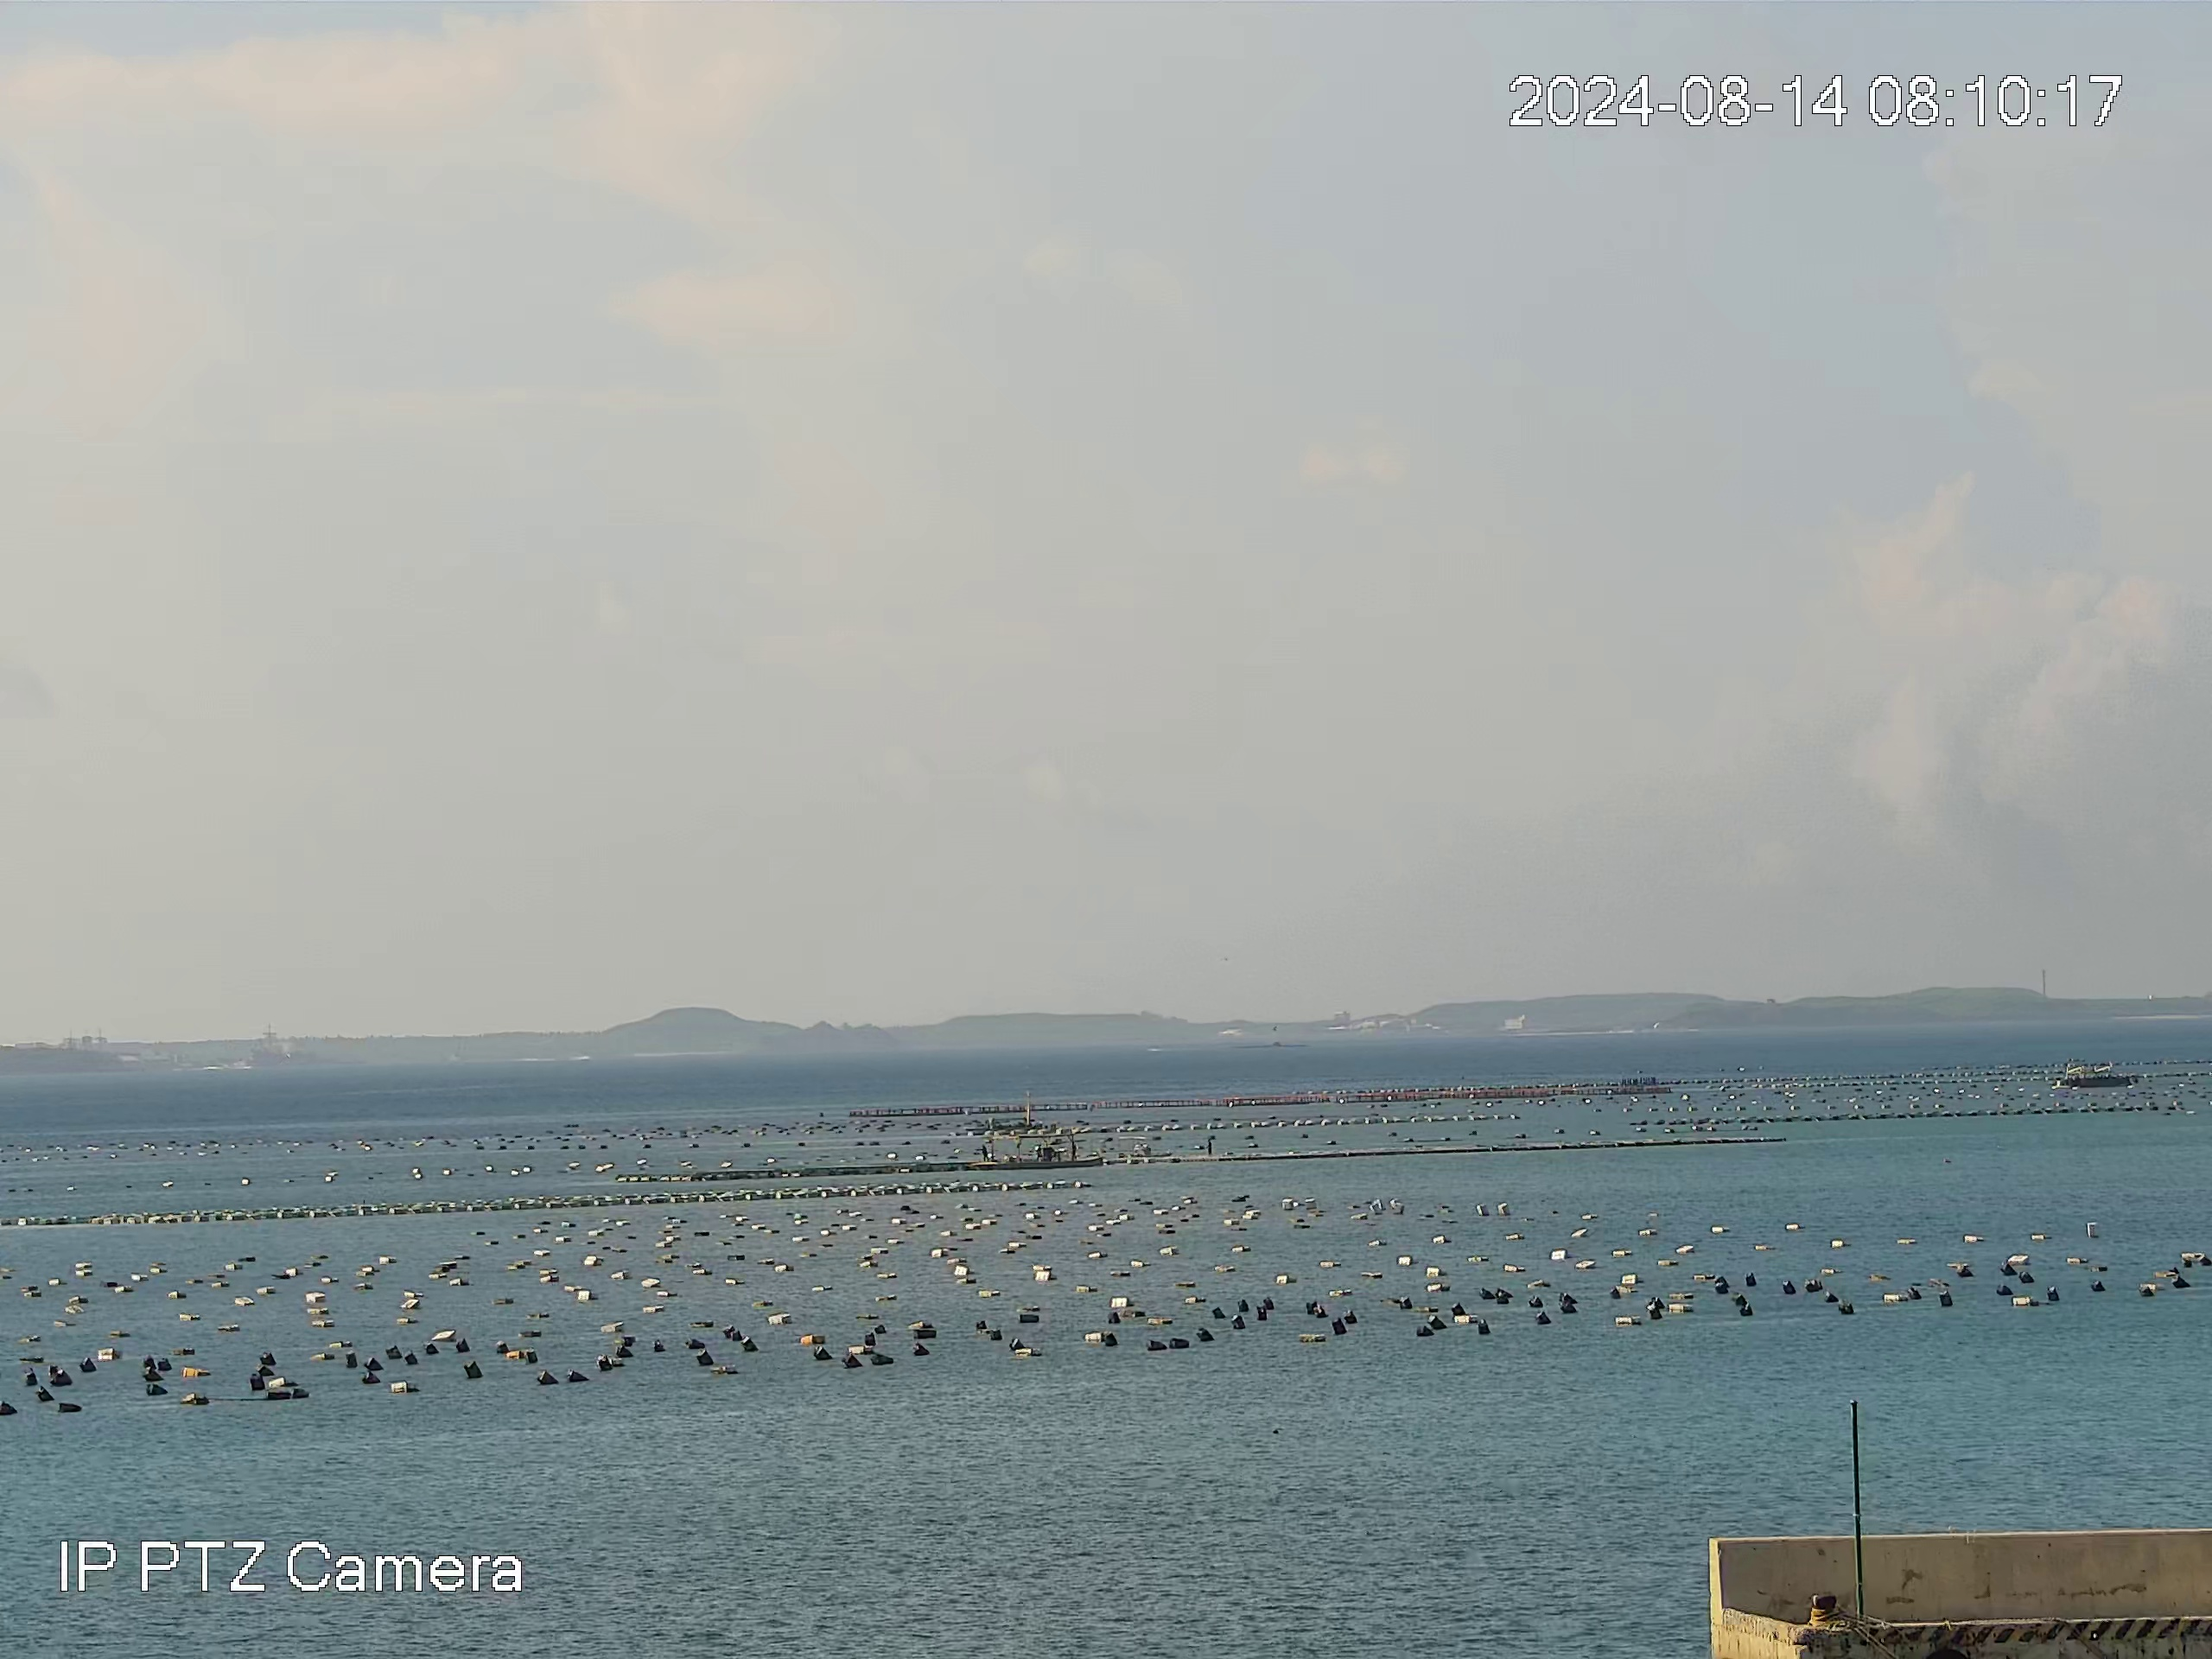boat: (977, 1127, 1099, 1166), (2054, 1061, 2135, 1091)
